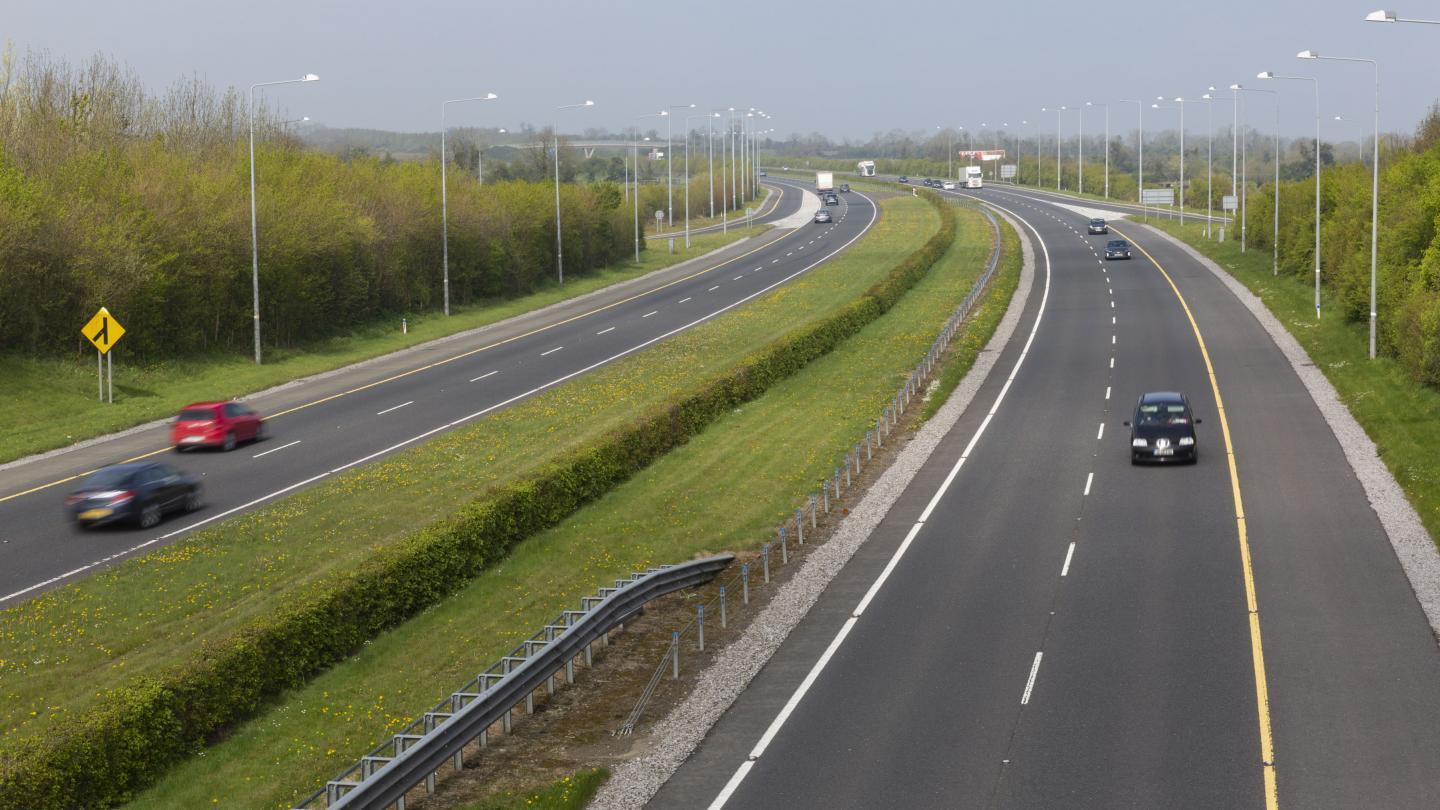car: (1119, 388, 1209, 476), (167, 396, 271, 459), (951, 164, 988, 195), (1101, 236, 1140, 263), (814, 167, 839, 196), (1085, 219, 1111, 235), (821, 192, 840, 211), (813, 209, 833, 226)
shadow: (64, 459, 216, 530)
